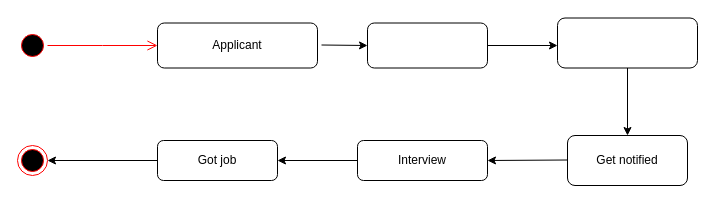
The diagram is 715 pixels wide and 203 high, and some of its shapes have lost their labels. The shapes that lost their labels are listed below. From the top down, each one's centre as x and y in pixels, then its label:
At pixel 427 45: "Sees and likes job".
At pixel 627 42: "Applies".
